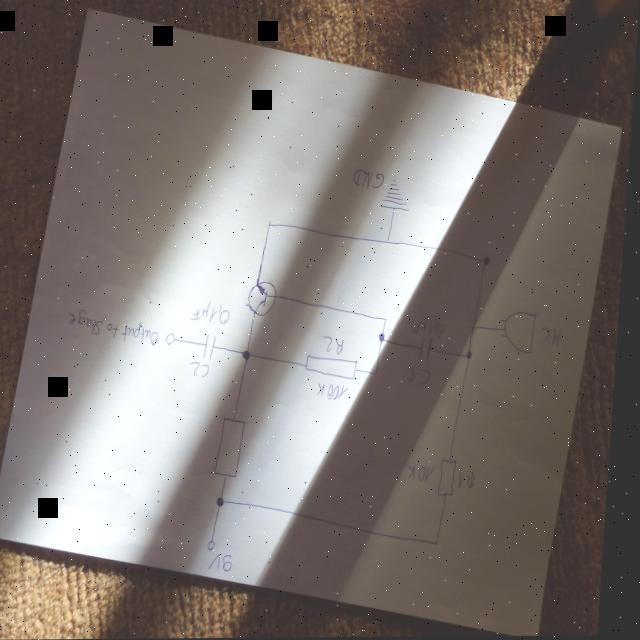capacitor: (206, 333, 225, 363), (423, 338, 441, 364)
ground: (383, 180, 415, 217)
junction: (222, 495, 234, 511), (247, 350, 257, 363), (486, 257, 495, 269), (374, 369, 383, 380), (269, 222, 278, 232), (470, 352, 479, 362), (388, 238, 396, 248), (384, 335, 391, 345), (477, 326, 483, 334), (442, 542, 448, 549), (388, 317, 393, 325)
resistor: (220, 417, 254, 479), (310, 357, 363, 381), (444, 458, 466, 500)
terminal: (169, 331, 183, 348), (215, 541, 224, 553)
text: (69, 307, 168, 349), (195, 303, 237, 328), (354, 168, 389, 192), (416, 317, 451, 340), (321, 382, 356, 403), (544, 325, 568, 351), (410, 465, 441, 485), (216, 554, 242, 576), (328, 337, 351, 359), (413, 368, 438, 388), (463, 472, 484, 492), (194, 362, 217, 379)
transistor: (249, 281, 285, 319)
